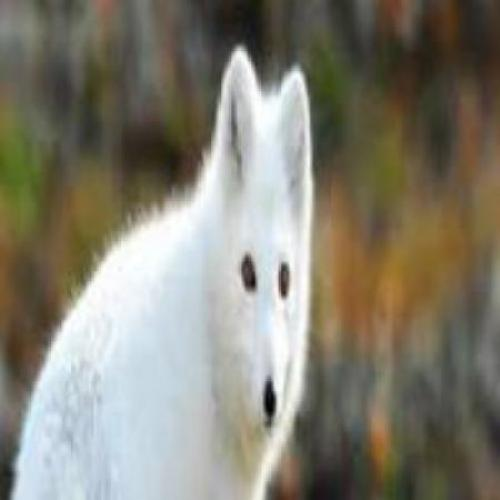arctic_fox-endangered: (12, 44, 315, 500)
